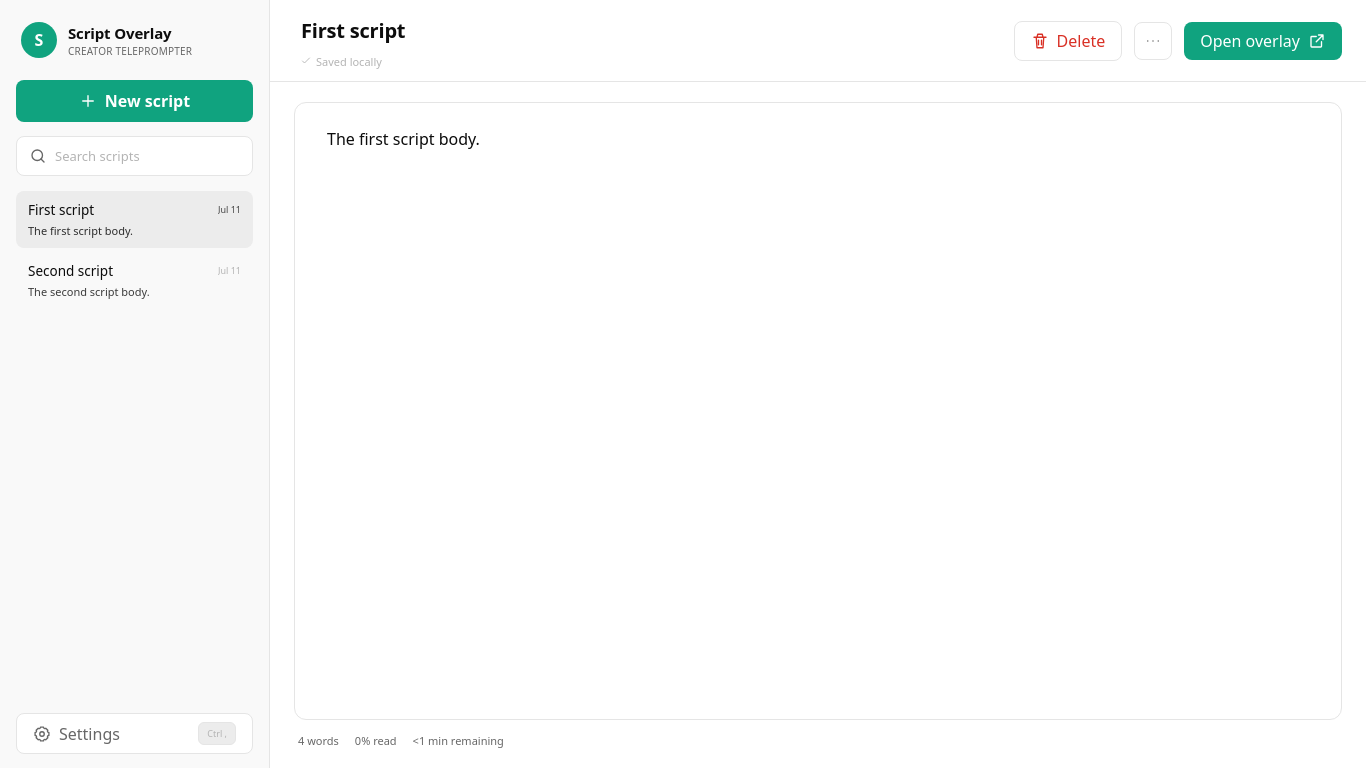
Test case: App script deletion › confirms deletion, removes the selected script, and selects the next script
Expected: the field showing "First script" is shown, 294,12 -> 814,49
What coordinates should you click on to do the following:
click the button with aria-label "Delete script"
I would click on:
 (1068, 40)
Its box is 1014,20 -> 1122,60.
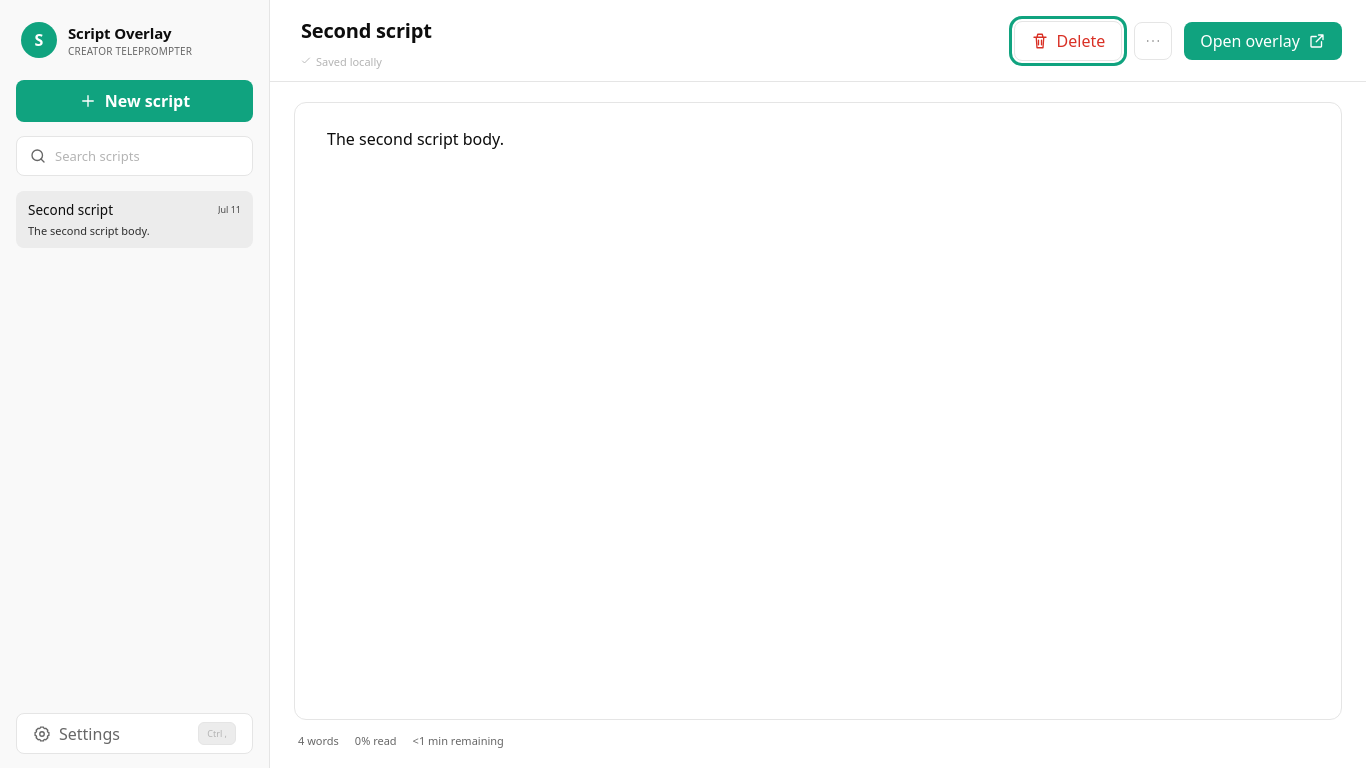
Now the field showing "Second script" is shown, box 294,12 -> 814,49
